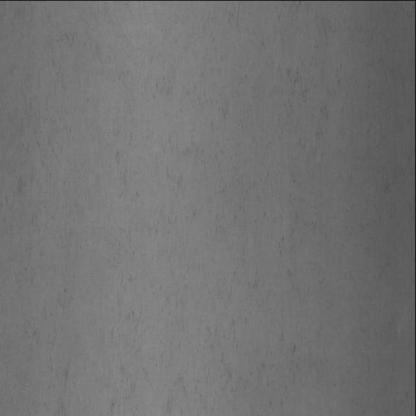silk_spot: (104, 177, 325, 398)
